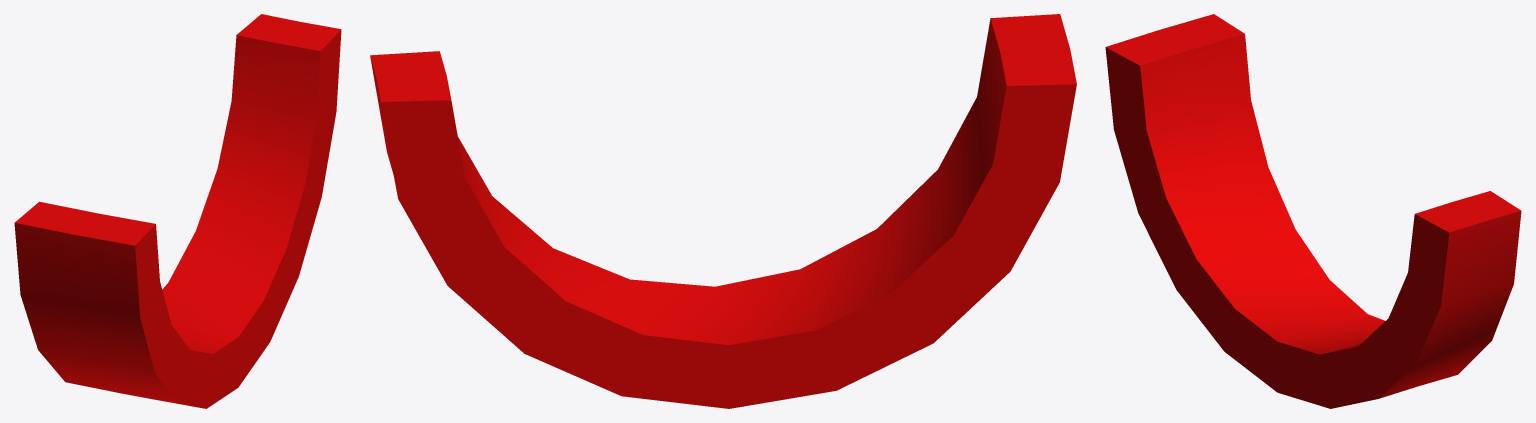
File: Vessel_Artery_Shim.fbx
3 renders of one model, left to right at view 1: azimuth 30°, elevation 25°; view 2: azimuth 150°, elevation 25°; view 3: azimuth 270°, elevation 25°, orthographic. The views are drawn at different scales.
Visible parts, largest first — view 1: pPipe39; view 2: pPipe39; view 3: pPipe39.
Boxes of the visible parts, x1,y1,x2,y2 form: pPipe39: [14, 14, 341, 408]; pPipe39: [370, 14, 1076, 408]; pPipe39: [1105, 14, 1521, 408].
Bounding box in the file's own units: 2.32 × 1.25 × 1.87.
